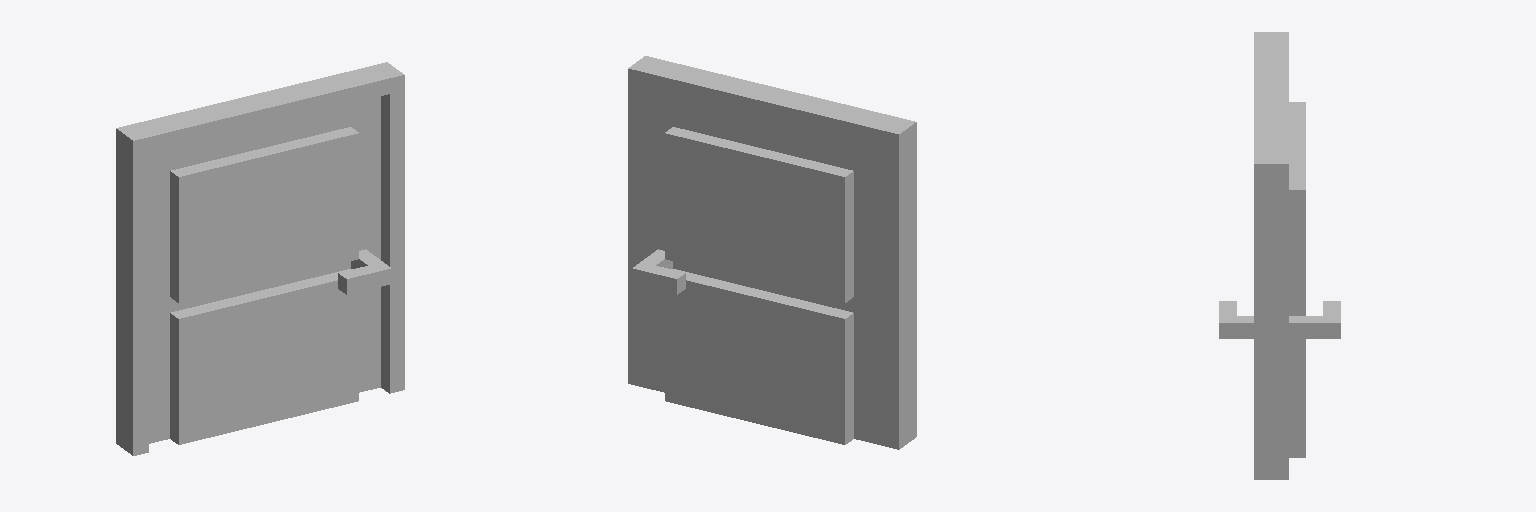
Rendered from env_door.obj.
3 views of the same model, side by side, from view 1: azimuth 30°, elevation 25°; view 2: azimuth 150°, elevation 25°; view 3: azimuth 270°, elevation 25° (orthographic).
Visible parts, largest first — view 1: env_door; view 2: env_door; view 3: env_door.
Boxes of the visible parts, x1,y1,x2,y2 form: env_door: [116, 62, 404, 455]; env_door: [628, 56, 916, 449]; env_door: [1219, 32, 1340, 479].
Bounding box in the file's own units: 18 × 20 × 7.